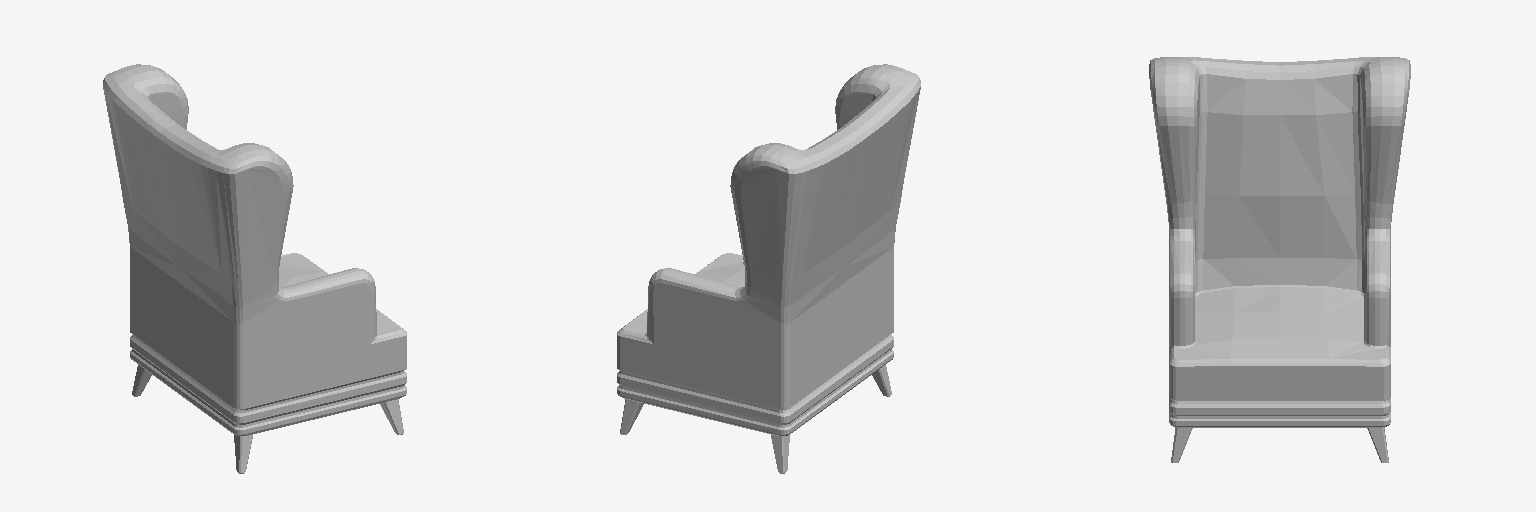
Rendered from old_chair.obj.
3 views of the same model, side by side, from view 1: azimuth 30°, elevation 25°; view 2: azimuth 150°, elevation 25°; view 3: azimuth 270°, elevation 25° (orthographic).
Visible parts, largest first — view 1: obj1; view 2: obj1; view 3: obj1.
Part boxes in pixels (bbox=[...]): obj1: bbox=[103, 64, 406, 473]; obj1: bbox=[617, 64, 920, 473]; obj1: bbox=[1149, 57, 1410, 462].
Bounding box in the file's own units: 0.8237 × 1.29 × 0.9434.